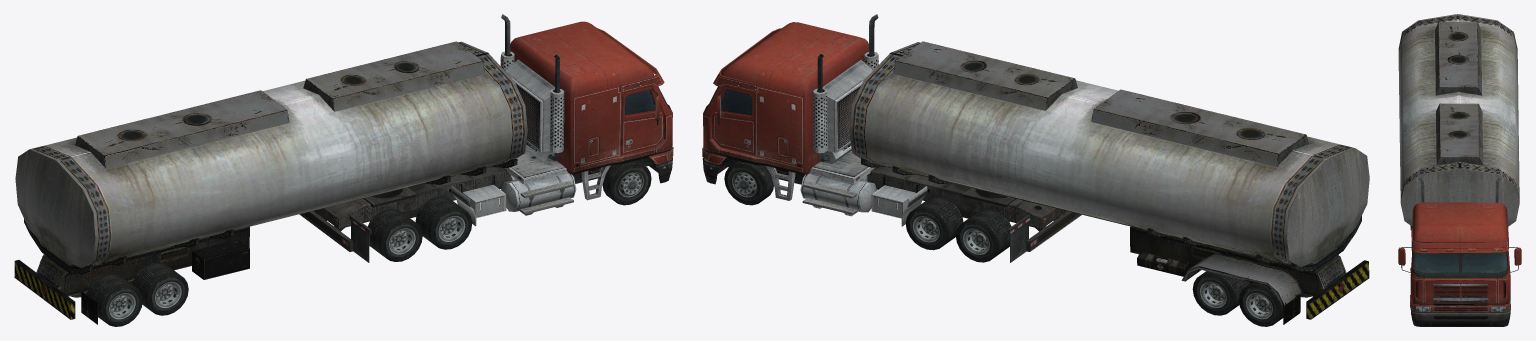
Rendered from OilTanker.FBX.
3 renders of one model, left to right at view 1: azimuth 30°, elevation 25°; view 2: azimuth 150°, elevation 25°; view 3: azimuth 270°, elevation 25°, orthographic. The views are drawn at different scales.
Parts seen in each view (by area): view 1: OilTanker; view 2: OilTanker; view 3: OilTanker.
Part boxes in pixels (<box>): OilTanker: <box>14,14,673,326</box>; OilTanker: <box>702,14,1369,326</box>; OilTanker: <box>1398,14,1521,326</box>.
Bounding box in the file's own units: 1054 × 255 × 276.
